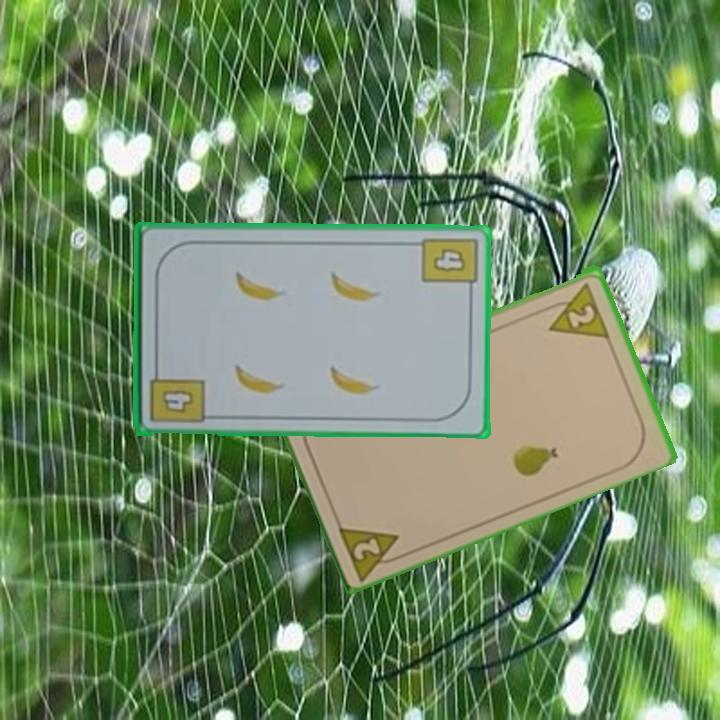2p: (334, 519, 411, 581), (539, 278, 612, 340)
4b: (418, 233, 480, 297), (145, 362, 207, 425)
